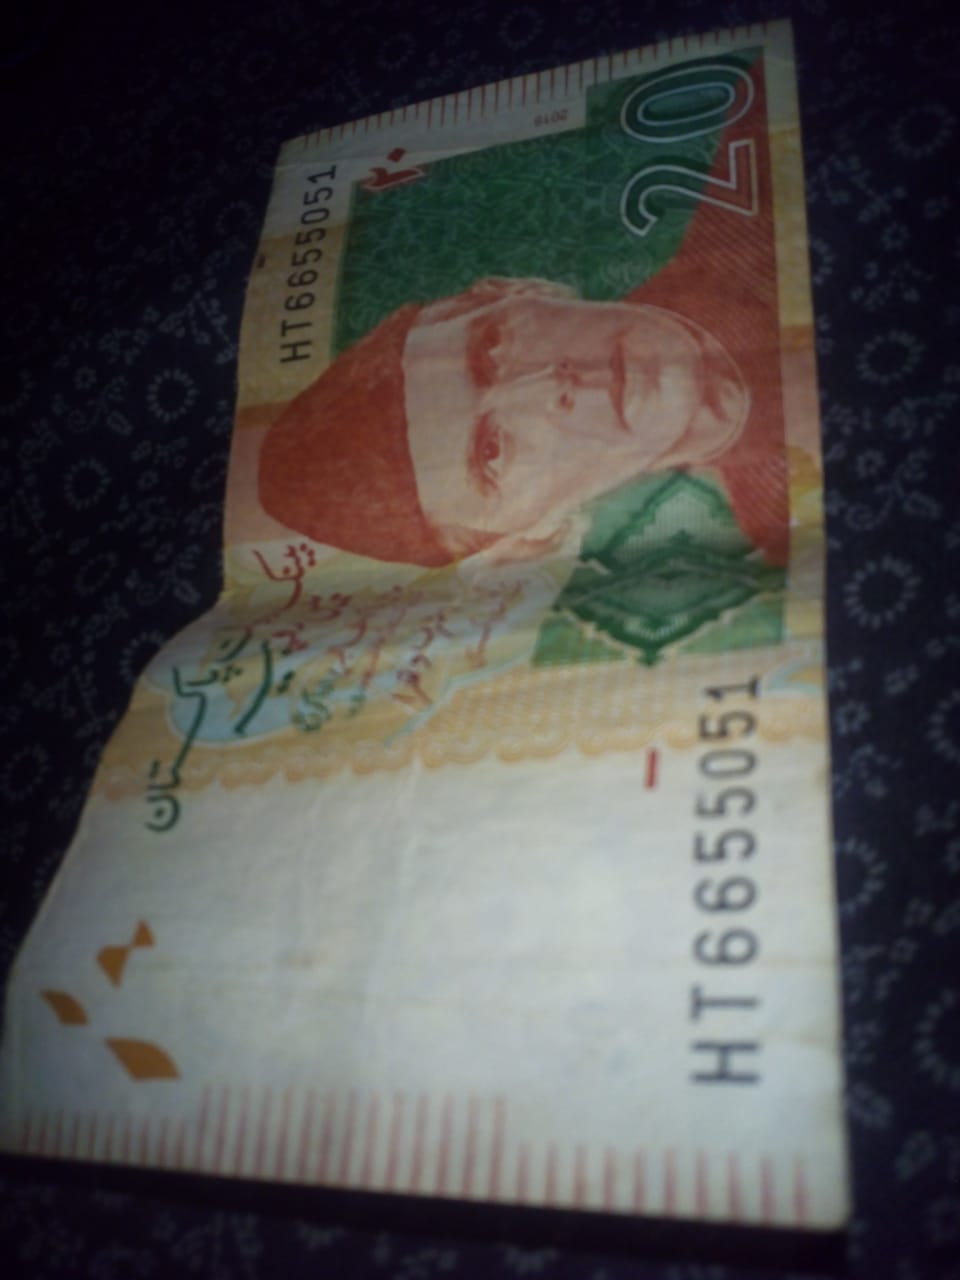20 rupee: (71, 46, 875, 1245)
